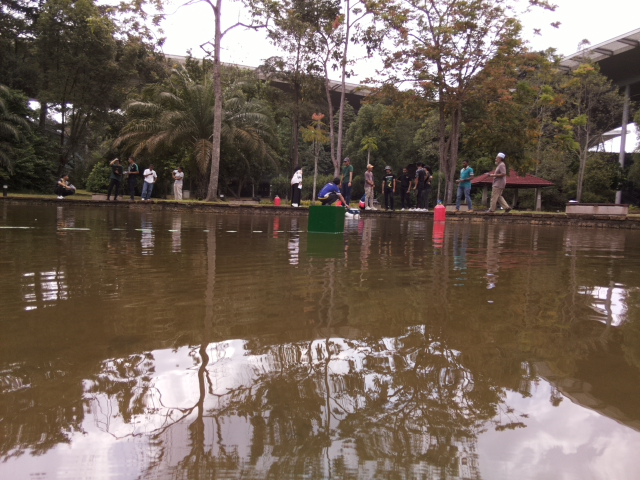obstacle: (306, 204, 347, 236)
